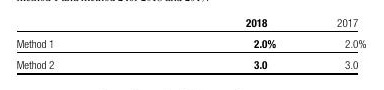table: (0, 0, 384, 90)
